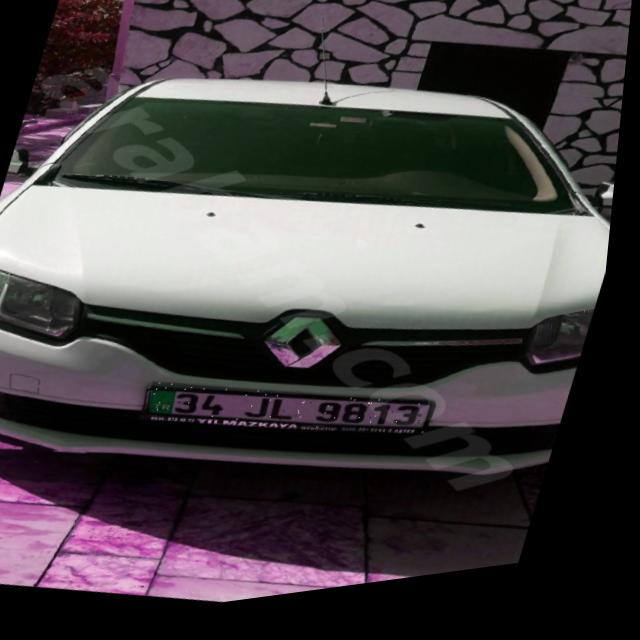license_plate: (147, 356, 446, 479)
